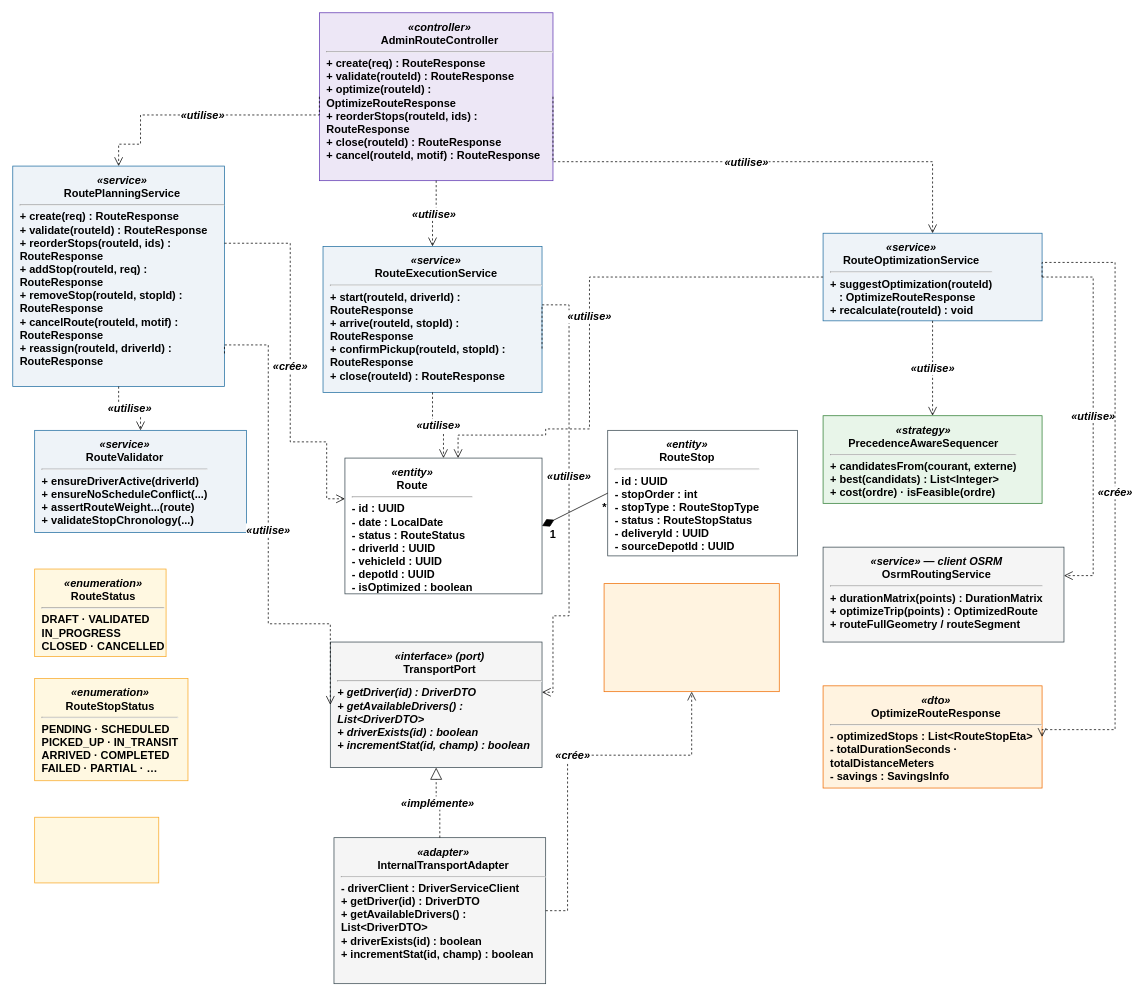
Some shapes in this 1145 by 996 pixel diagram are drawn without their labels. The box of each missing label's shape, as (x1, y1, x2, y2) in pixels:
«dto» DriverDTO - id · name - currentLat · currentLng - onlineStatus: (603, 583, 779, 692)
«enumeration» RouteStopType PICKUP · DELIVERY: (34, 817, 159, 883)
